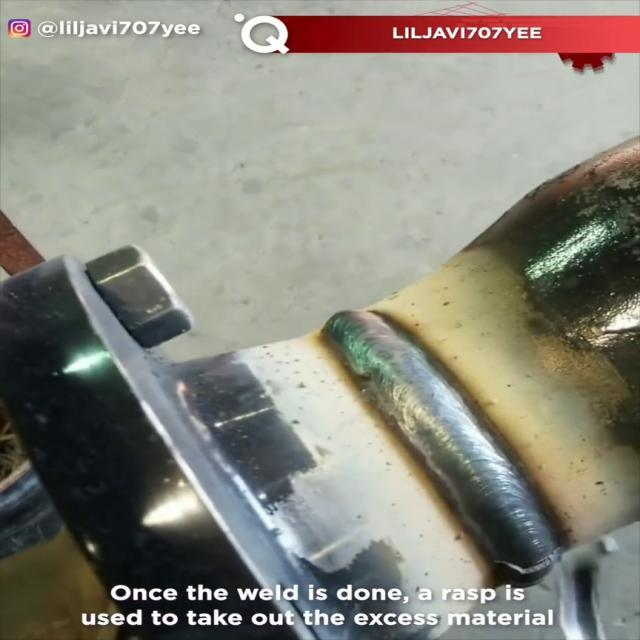Good Welding: (322, 314, 550, 552)
